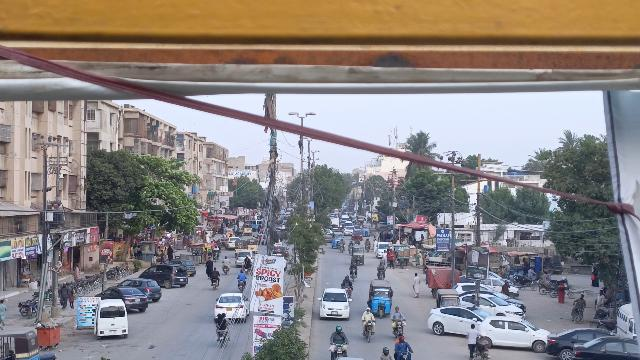Bike: (476, 331, 493, 360), (361, 320, 377, 342), (571, 306, 587, 324), (392, 319, 406, 338), (215, 330, 228, 349), (332, 342, 347, 357), (394, 351, 414, 360), (340, 284, 353, 297), (375, 269, 389, 281), (237, 279, 248, 292), (349, 268, 360, 280), (210, 277, 218, 289), (221, 265, 229, 275)
Car: (479, 312, 549, 353), (545, 322, 612, 357), (428, 304, 480, 338), (460, 291, 523, 318), (96, 284, 148, 313), (316, 286, 352, 321), (140, 264, 189, 289), (214, 291, 252, 323), (118, 277, 164, 302)
Person: (328, 325, 350, 347), (465, 324, 478, 358), (410, 271, 423, 300), (395, 335, 411, 353), (361, 307, 376, 324), (391, 306, 405, 324), (60, 281, 69, 308), (571, 294, 588, 308), (214, 312, 226, 331), (0, 297, 7, 329), (67, 290, 78, 308), (204, 256, 213, 278), (340, 275, 352, 286), (236, 269, 246, 281), (211, 267, 220, 279), (376, 261, 386, 271), (221, 256, 230, 267), (222, 312, 229, 326), (349, 261, 358, 271)
Rickshaw: (0, 327, 40, 360), (366, 280, 393, 320), (434, 287, 461, 307), (350, 244, 367, 267), (331, 231, 344, 249)
Van: (94, 297, 129, 340)
